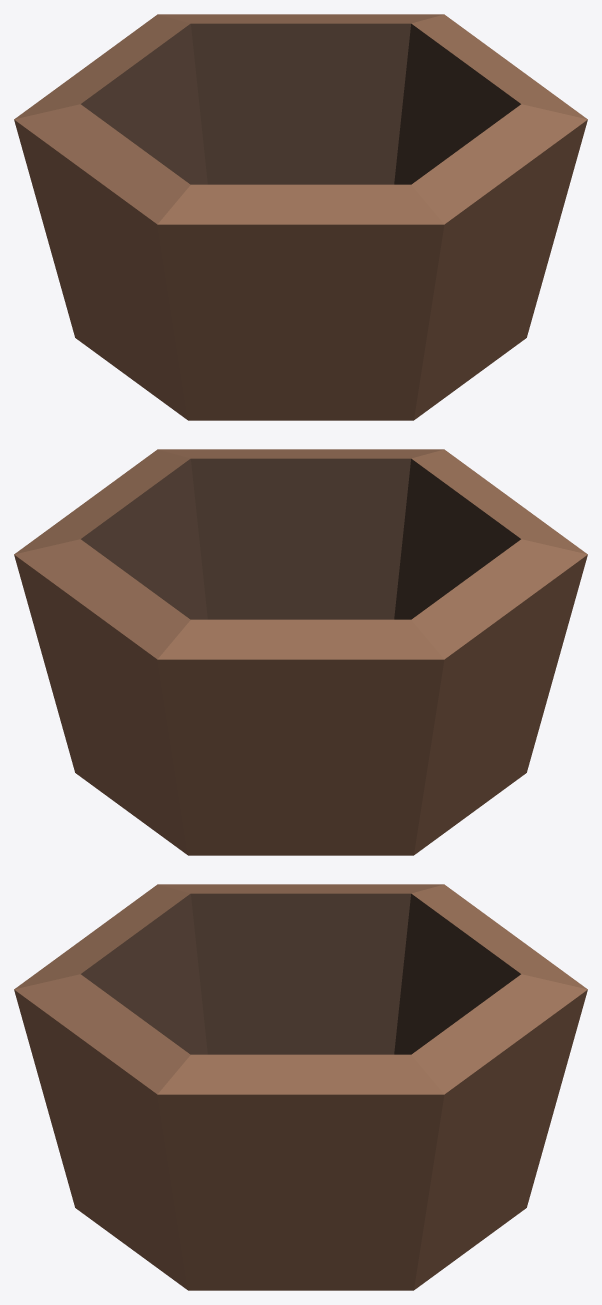
The model's file is TB_Prop_Bucket_C.FBX.
The picture shows the model from 3 angles, top to bottom: view 1: azimuth 30°, elevation 25°; view 2: azimuth 150°, elevation 25°; view 3: azimuth 270°, elevation 25°; orthographic projection.
Parts seen in each view (by area): view 1: TB_Prop_Bucket_C; view 2: TB_Prop_Bucket_C; view 3: TB_Prop_Bucket_C.
Part boxes in pixels (x1=…): TB_Prop_Bucket_C: x1=14, y1=14, x2=587, y2=420; TB_Prop_Bucket_C: x1=14, y1=449, x2=587, y2=855; TB_Prop_Bucket_C: x1=14, y1=884, x2=587, y2=1290.
Bounding box in the file's own units: 0.4237 × 0.2198 × 0.4893.
